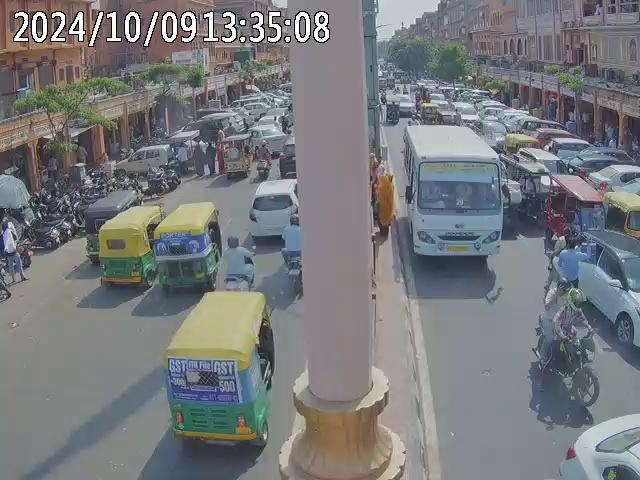auto: (161, 288, 277, 455), (151, 200, 223, 296), (78, 187, 142, 256), (545, 175, 605, 248), (218, 132, 251, 180)
bus: (402, 123, 502, 260)
car: (574, 228, 640, 352), (555, 401, 640, 479), (247, 177, 298, 243), (454, 102, 481, 125)
helmet: (570, 290, 584, 312)
license_plate: (447, 245, 470, 251)
motorbike-rider: (530, 278, 600, 409), (280, 214, 302, 276)
person: (0, 211, 30, 292)
scooty-rider: (222, 235, 257, 290)
